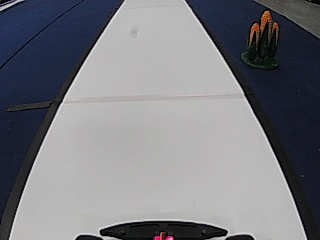corn: (240, 8, 281, 69)
